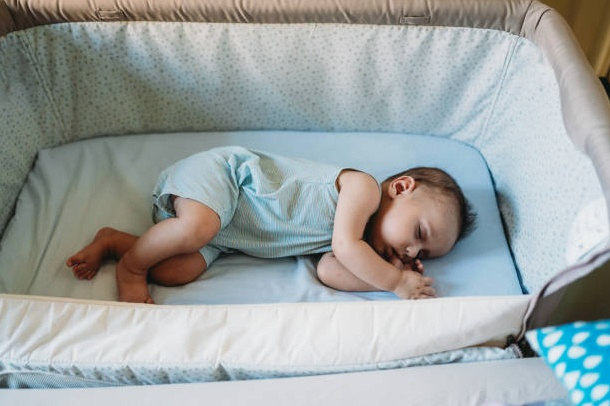baby: (67, 146, 474, 302)
crib: (0, 0, 609, 386)
